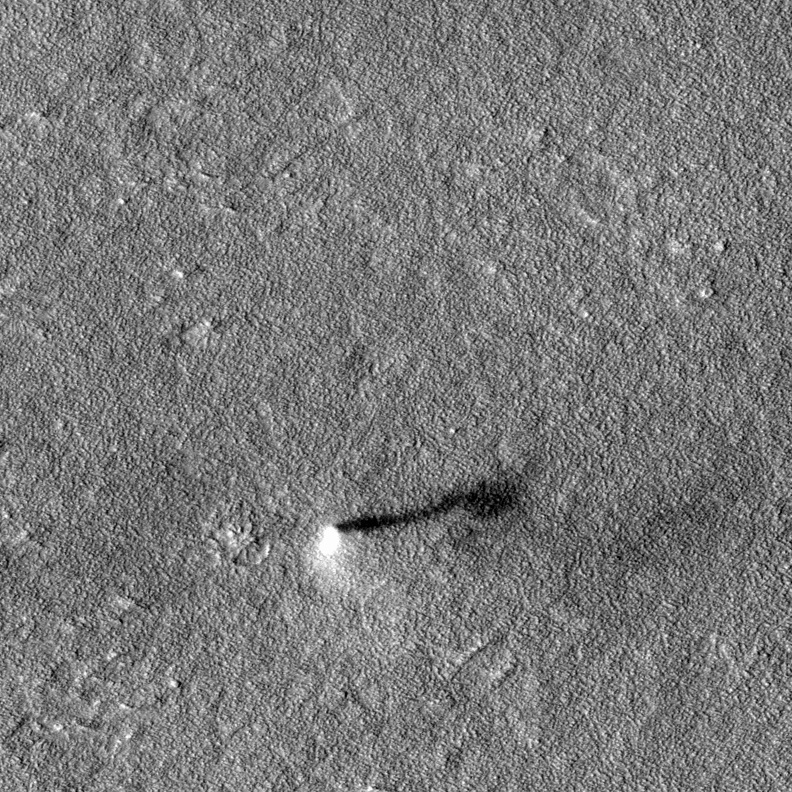dust_devil: (314, 475, 525, 562)
